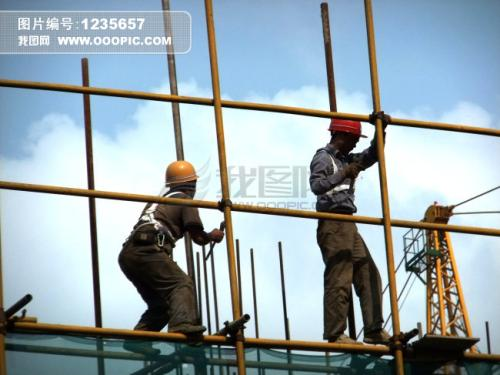boots: (168, 322, 207, 334), (363, 328, 392, 343), (328, 333, 357, 344), (185, 333, 204, 347)
gloves: (192, 228, 223, 246), (344, 162, 363, 179)
hard-hat: (164, 159, 199, 185), (327, 117, 368, 138)
person: (117, 159, 225, 347), (309, 116, 392, 345)
